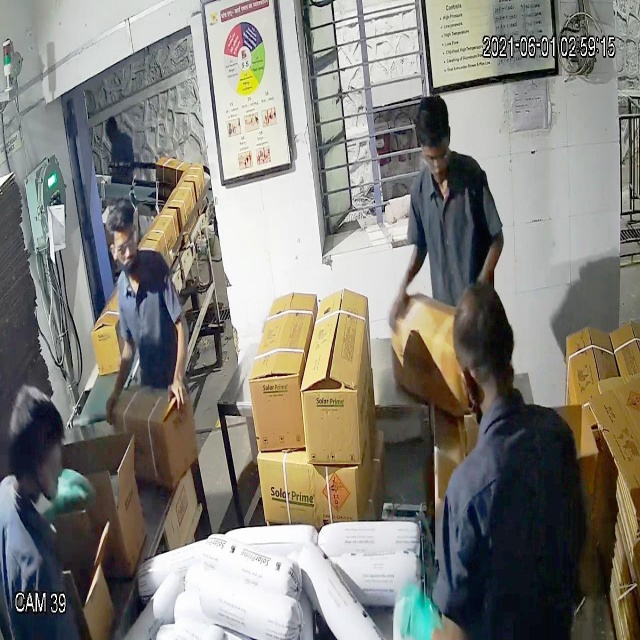Gafas: (103, 223, 143, 260)
